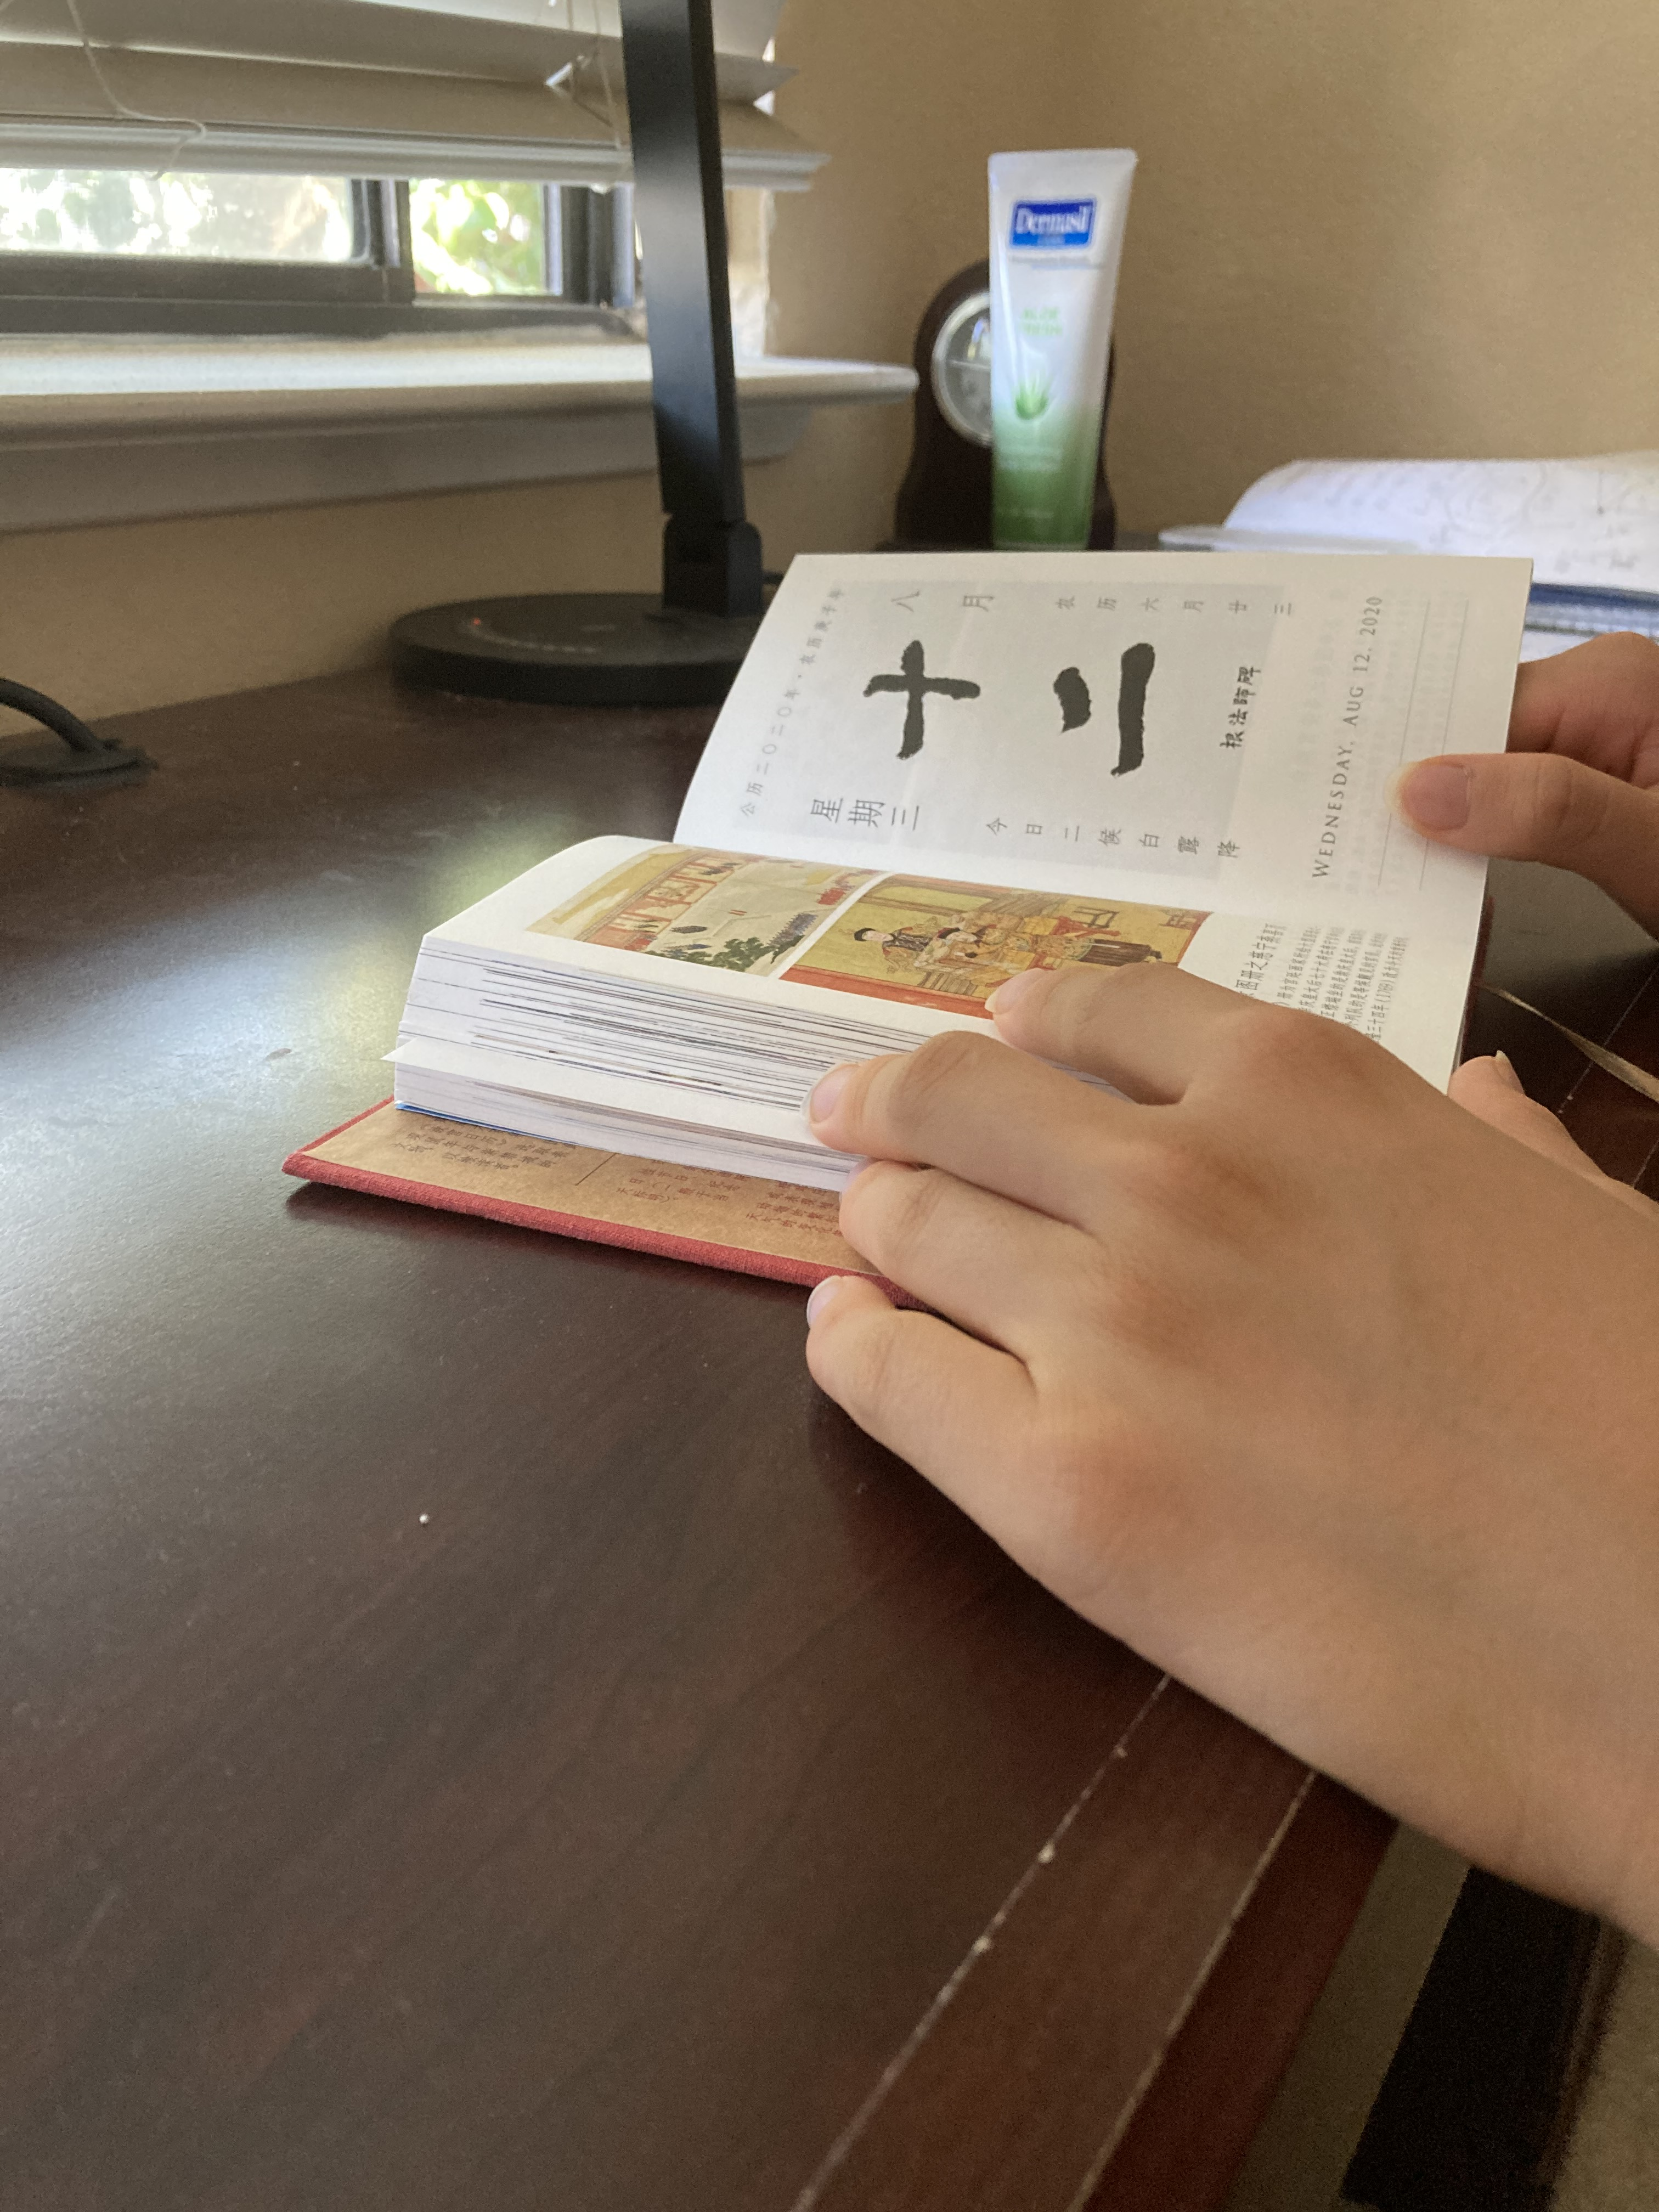Open Book: (291, 543, 1541, 1327)
